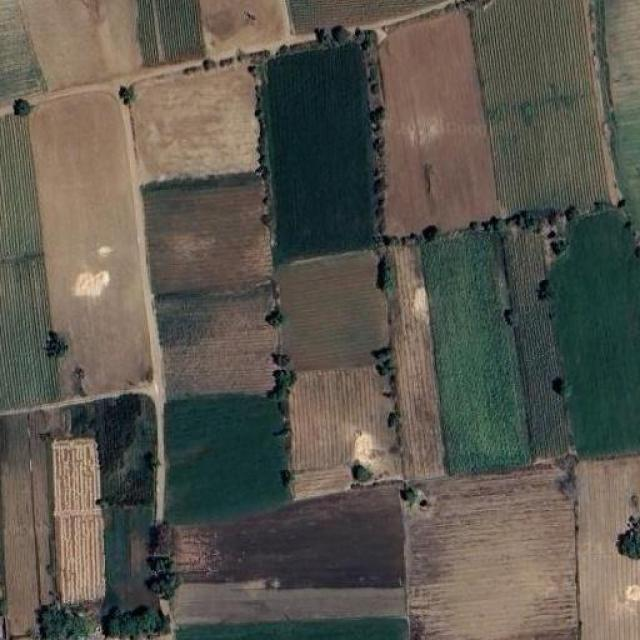land-Sx1C: (29, 92, 152, 399), (402, 468, 579, 640), (470, 0, 610, 212), (144, 174, 276, 398), (379, 12, 499, 236), (421, 231, 531, 474), (261, 44, 375, 263), (175, 484, 404, 589), (549, 209, 640, 458), (0, 115, 59, 408), (166, 394, 290, 524), (504, 226, 571, 459), (144, 174, 270, 295), (289, 366, 401, 499), (130, 66, 256, 183), (0, 410, 63, 638), (274, 250, 388, 369), (388, 245, 445, 479), (575, 456, 640, 639), (21, 0, 141, 89), (174, 581, 405, 624), (71, 394, 156, 506), (52, 438, 105, 603), (102, 508, 166, 639), (604, 0, 640, 231), (287, 0, 445, 33), (199, 0, 289, 57), (176, 618, 406, 640), (0, 0, 45, 99), (138, 0, 204, 66)
